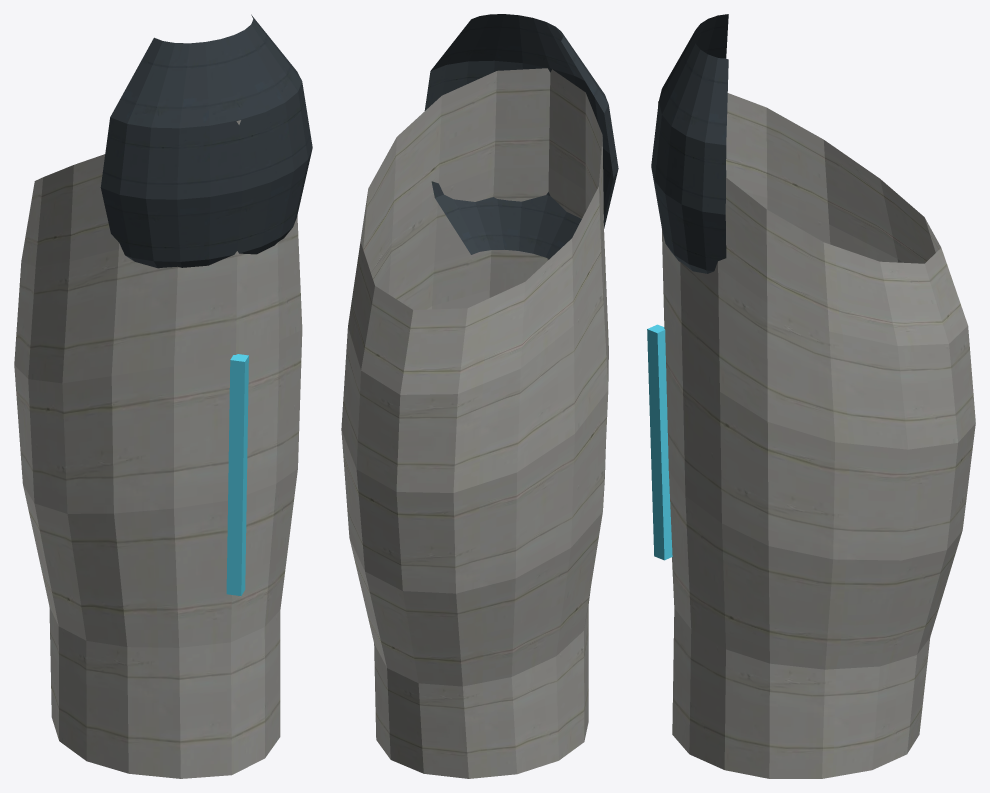
Rendered from eq_future_2_leg.glb.
3 renders of one model, left to right at view 1: azimuth 30°, elevation 25°; view 2: azimuth 150°, elevation 25°; view 3: azimuth 270°, elevation 25°, orthographic. The views are drawn at different scales.
Visible parts, largest first — view 1: eq_future_2_leg; view 2: eq_future_2_leg; view 3: eq_future_2_leg.
Boxes of the visible parts, x1=… form: eq_future_2_leg: x1=14, y1=14, x2=312, y2=778; eq_future_2_leg: x1=341, y1=14, x2=618, y2=778; eq_future_2_leg: x1=647, y1=14, x2=975, y2=778.
Size of the model in its own units: 0.1539 by 0.4472 by 0.1909.
Materials: 3 (2 with a texture image).
